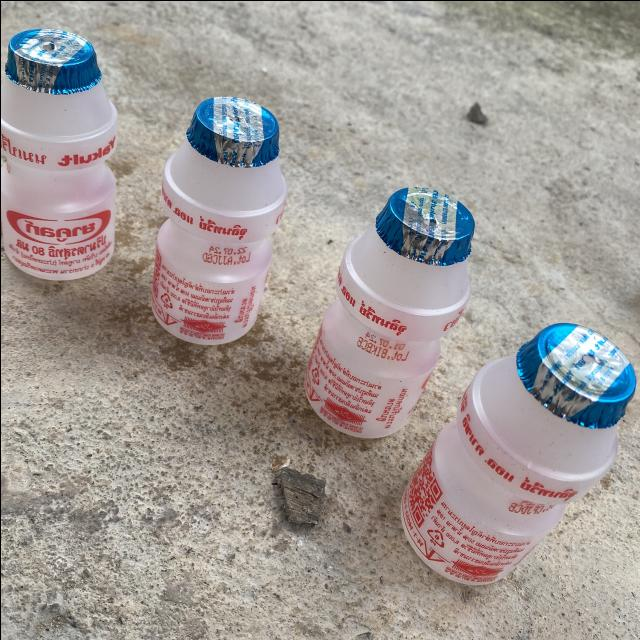plastik: (401, 323, 635, 584), (304, 186, 474, 436), (150, 96, 287, 344), (0, 28, 116, 279)
